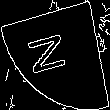N_E: (31, 29, 79, 81)
